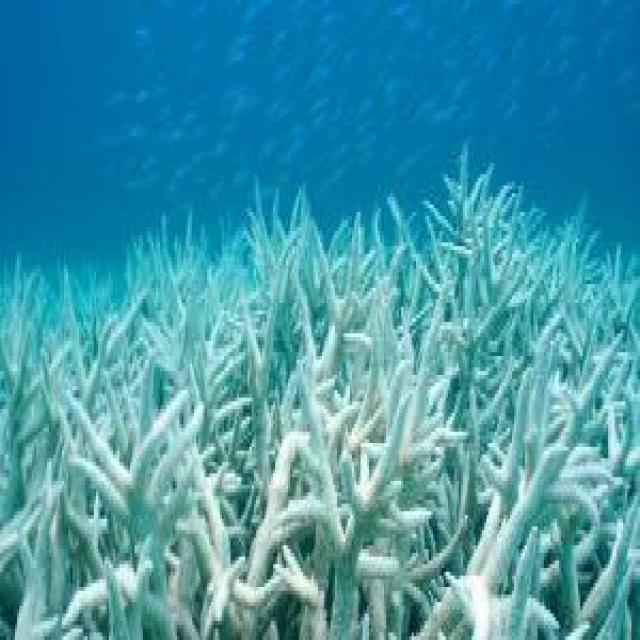bleached coral: (0, 158, 640, 639)
